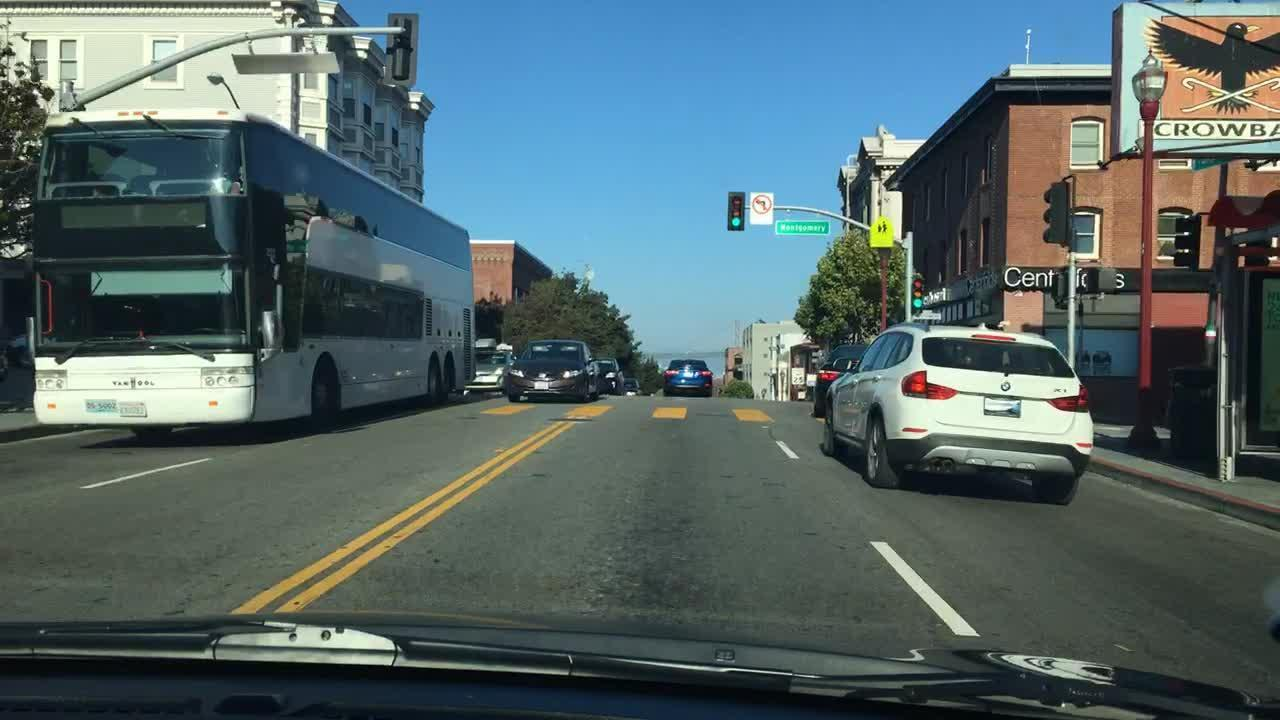Mercedes: (993, 375, 1016, 403)
